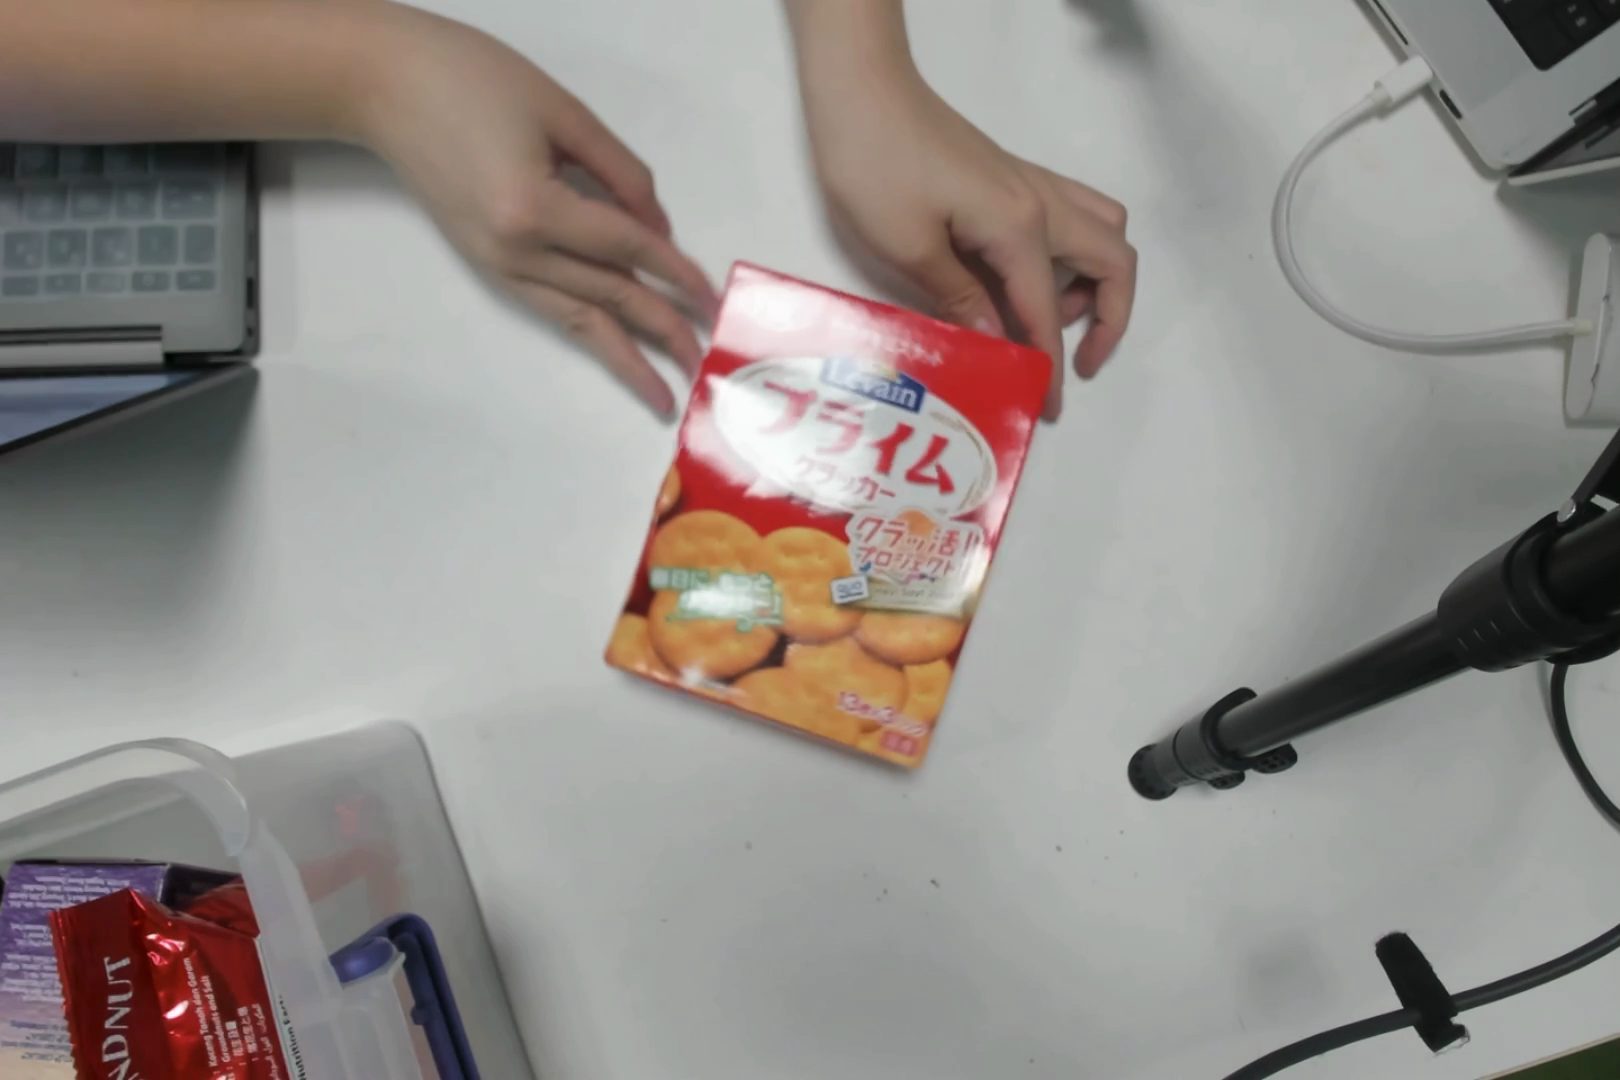c: (652, 309, 994, 768)
